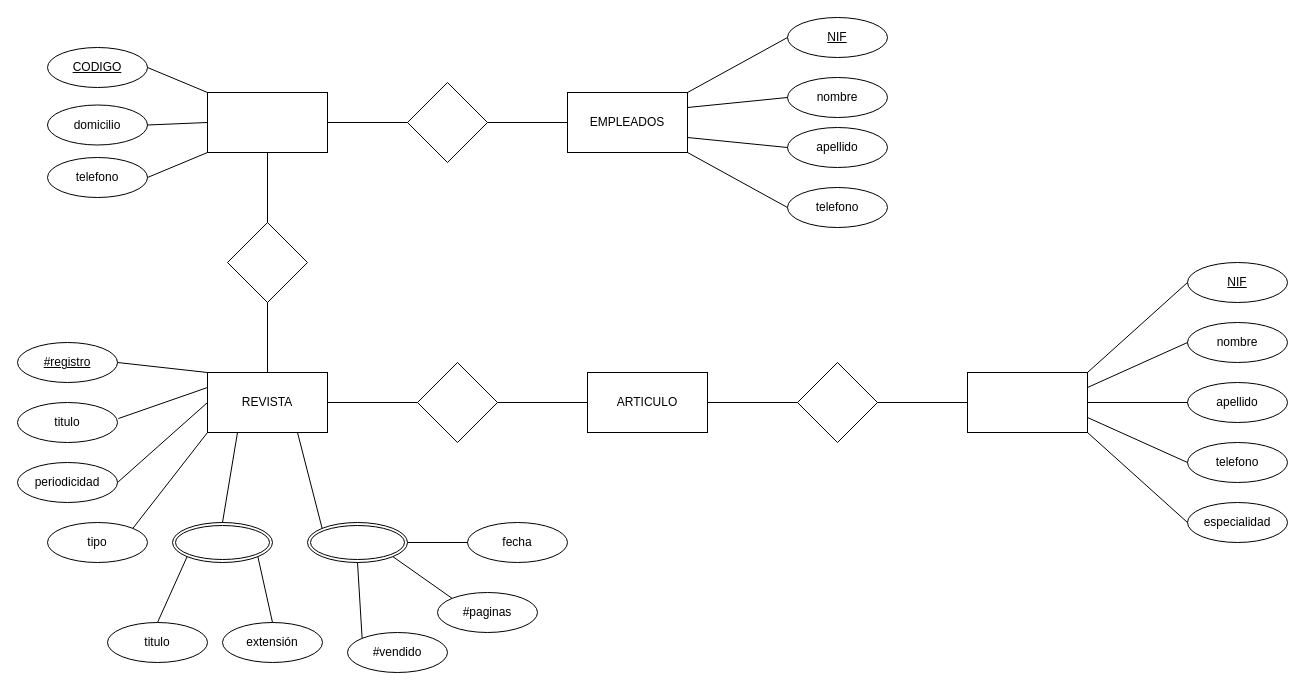
This 1305x690 diagram has some shape labels left out. The shapes that lost their labels are listed below. From the top down, each one's centre as x and y in pixels, then its label:
At (267,122): "SUCURSAL".
At (447,122): "Tiene".
At (267,262): "Publica".
At (457,402): "Contiene".
At (837,402): "Escribe".
At (1027,402): "PERIODISTA".
At (222,542): "seccion_fija".
At (357,542): "ejemplar".
